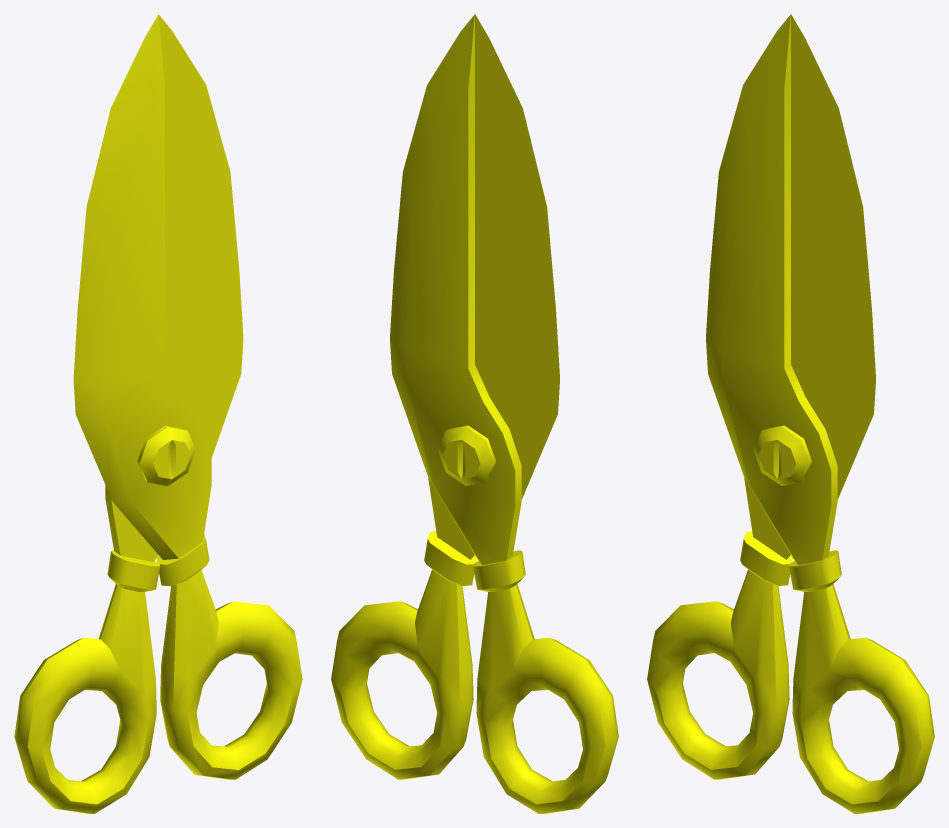
The model's file is kaykit-scissors.glb.
3 views of the same model, side by side, from view 1: azimuth 30°, elevation 25°; view 2: azimuth 150°, elevation 25°; view 3: azimuth 330°, elevation 25° (orthographic).
Parts seen in each view (by area): view 1: scissors; view 2: scissors; view 3: scissors.
Part boxes in pixels (left/top/right/bottom): scissors: left=14, top=14, right=302, bottom=813; scissors: left=331, top=14, right=618, bottom=813; scissors: left=647, top=14, right=934, bottom=813.
Bounding box in the file's own units: 0.4554 × 1.2 × 0.0748.
